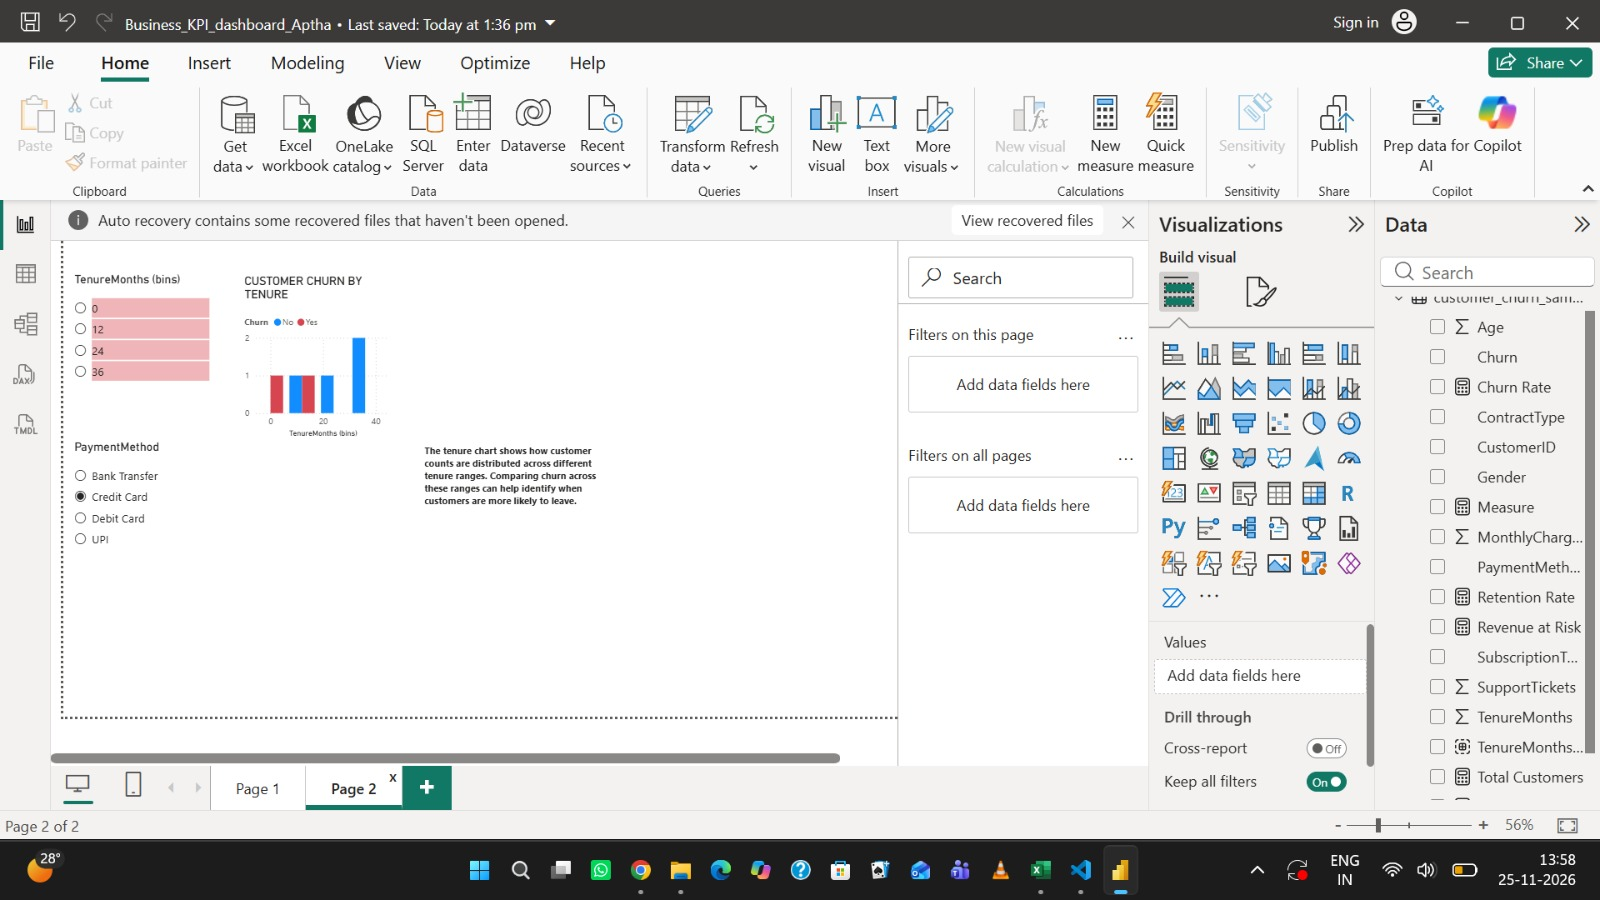

What the dashboard file says about the page in this screenshot:
{"tool":"powerbi","page":{"name":"Page 2","canvas":[1280,720],"ordinal":1},"visuals":[{"type":"listSlicer","fields":{"Values":["customer_churn_sample (2).TenureMonths (bins)"]},"box":[11,86,204,198],"z":0},{"type":"listSlicer","fields":{"Values":["customer_churn_sample (2).PaymentMethod"]},"box":[11,325,204,198],"z":1},{"type":"clusteredColumnChart","title":"CUSTOMER CHURN BY TENURE","fields":{"Category":["customer_churn_sample (2).TenureMonths (bins)"],"Y":["CountNonNull(customer_churn_sample (2).CustomerID)"],"Series":["customer_churn_sample (2).Churn"]},"box":[253.2,86.9,217.3,238.1],"z":2},{"type":"textbox","box":[512.1,86.9,323.2,141.7],"z":3},{"type":"textbox","box":[511.4,324.3,277.1,100],"z":4}]}

Visuals, with their boxes on the page's 1280x720 design canvas (x1, y1, x2, y2). These are canvas units, not pixel positions in the 1600x900 screenshot, which may show the page scaled, cropped or inside an application window:
listSlicer - customer_churn_sample (2).TenureMonths (bins): (11, 86, 215, 284)
listSlicer - customer_churn_sample (2).PaymentMethod: (11, 325, 215, 523)
"CUSTOMER CHURN BY TENURE" clusteredColumnChart: (253, 87, 470, 325)
textbox: (512, 87, 835, 229)
textbox: (511, 324, 788, 424)
